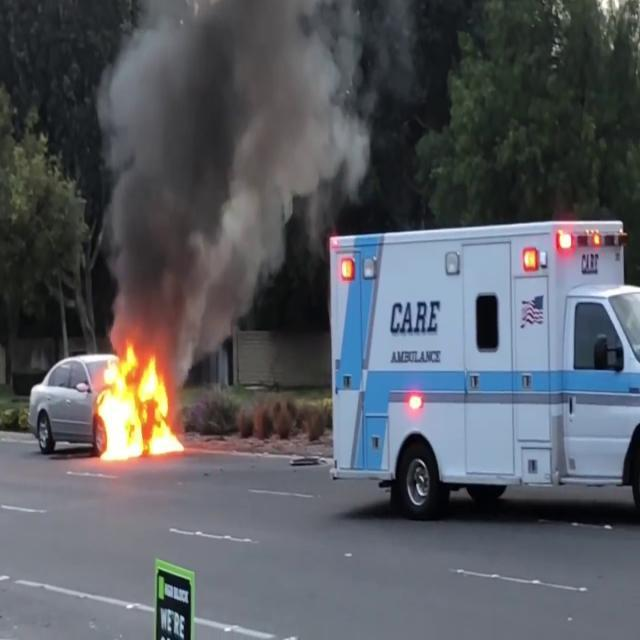Fire: (93, 336, 183, 462)
Smoke: (94, 1, 422, 332)
